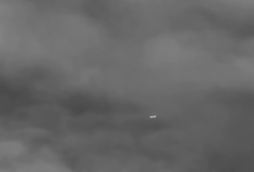Target: (150, 115, 155, 117)
